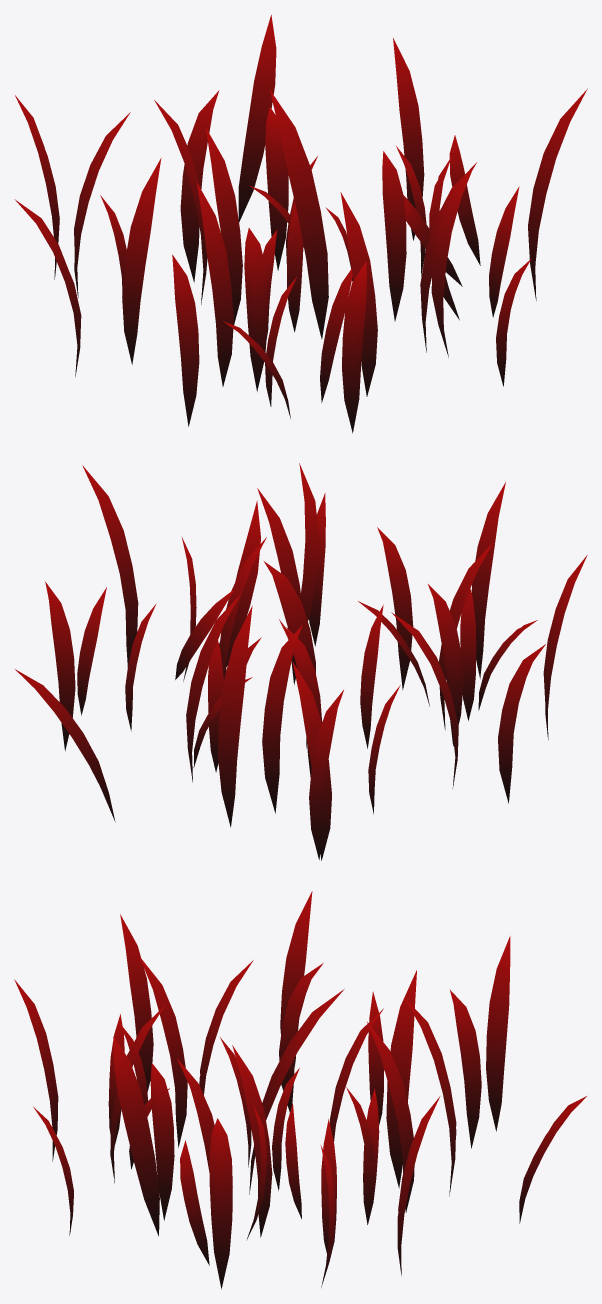
Rendered from Grass.fbx.
3 views of the same model, one above another, from view 1: azimuth 30°, elevation 25°; view 2: azimuth 150°, elevation 25°; view 3: azimuth 270°, elevation 25° (orthographic). The views are drawn at different scales.
Parts seen in each view (by area): view 1: Grass; view 2: Grass; view 3: Grass.
Boxes of the visible parts, x1,y1,x2,y2 form: Grass: (14, 15, 587, 433); Grass: (15, 463, 587, 860); Grass: (14, 891, 586, 1289).
Bounding box in the file's own units: 6.74 × 2.81 × 6.66.
